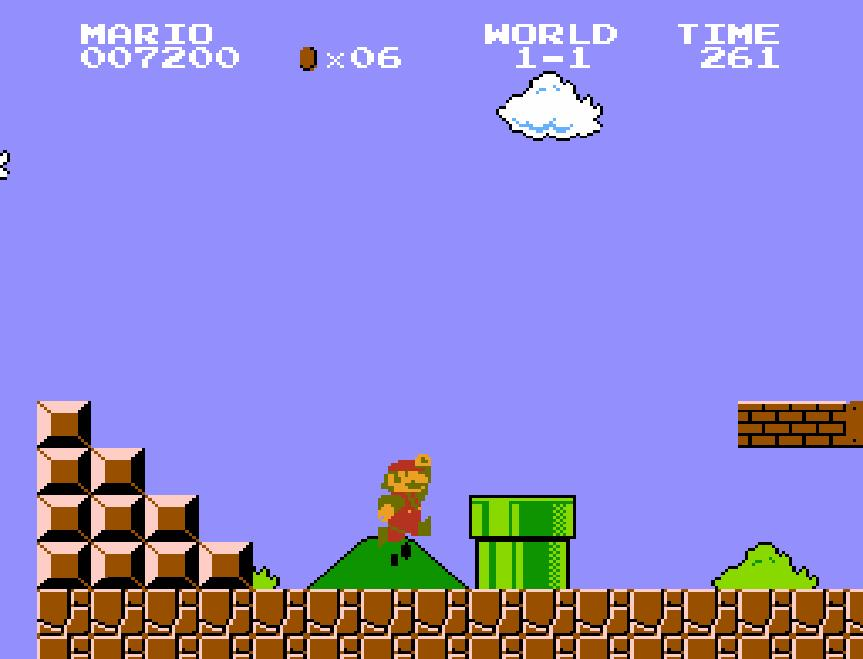big_mario: (376, 452, 434, 550)
